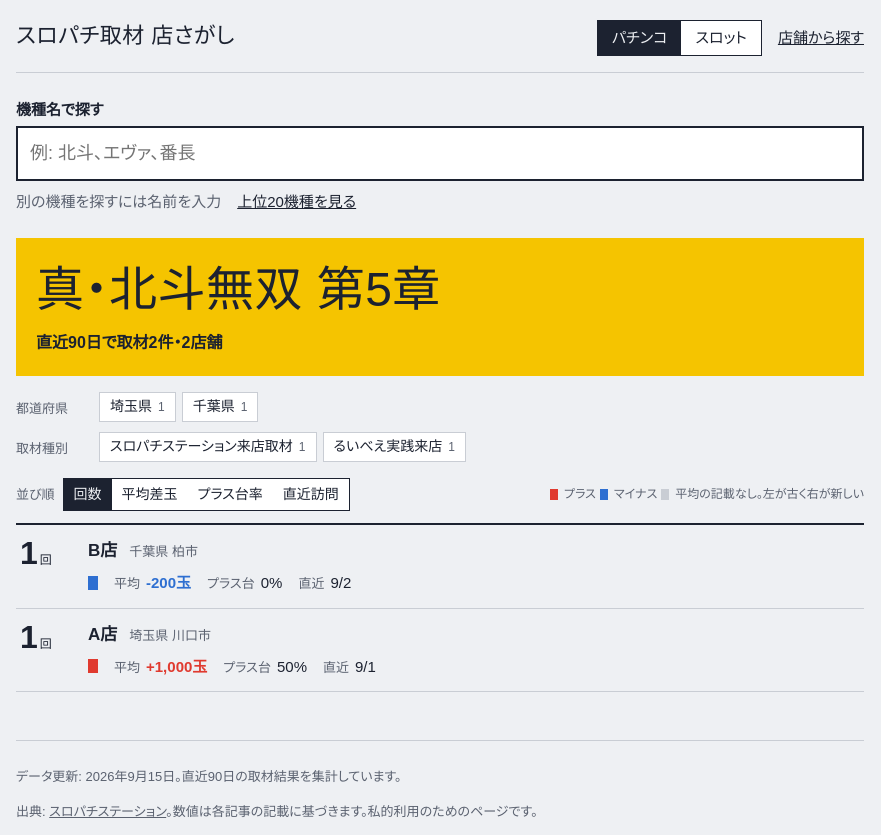
Test: App › 種別を切り替えると機種選択が解除される
Expected: the heading "真・北斗無双 第5章" is shown, x1=36 y1=263 x2=441 y2=316
Click the radio button labelled "スロット". click: (721, 38)
box: x1=681 y1=21 x2=761 y2=54
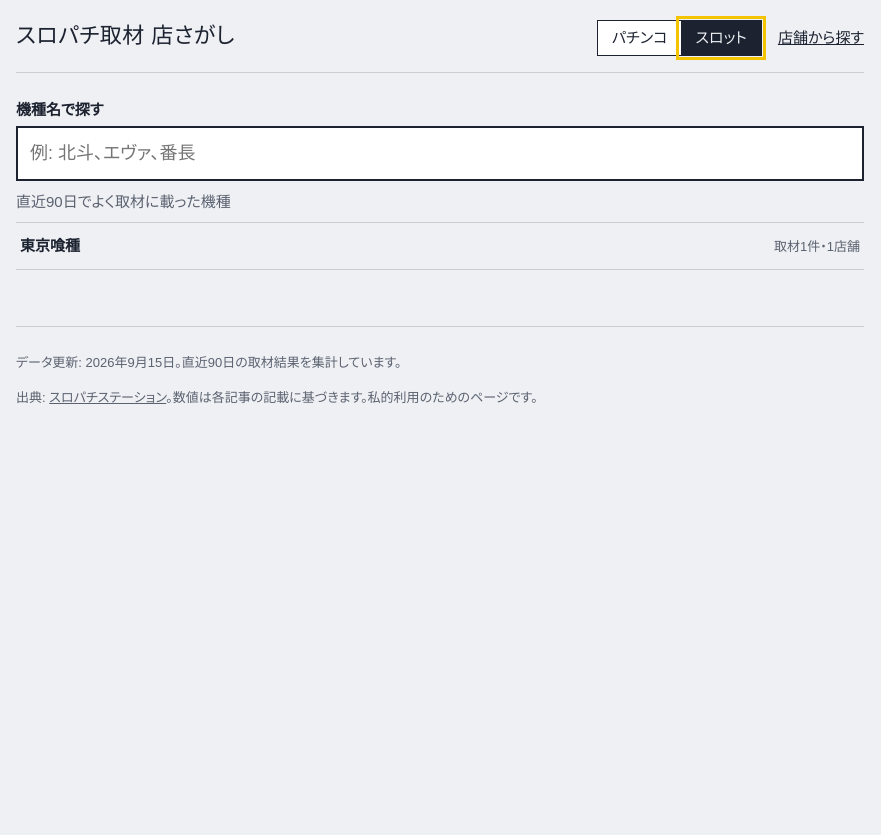
Expected: the heading "真・北斗無双 第5章" is gone
Expected: the option "東京喰種 取材1件・1店舗" is shown, x1=16 y1=223 x2=864 y2=270
